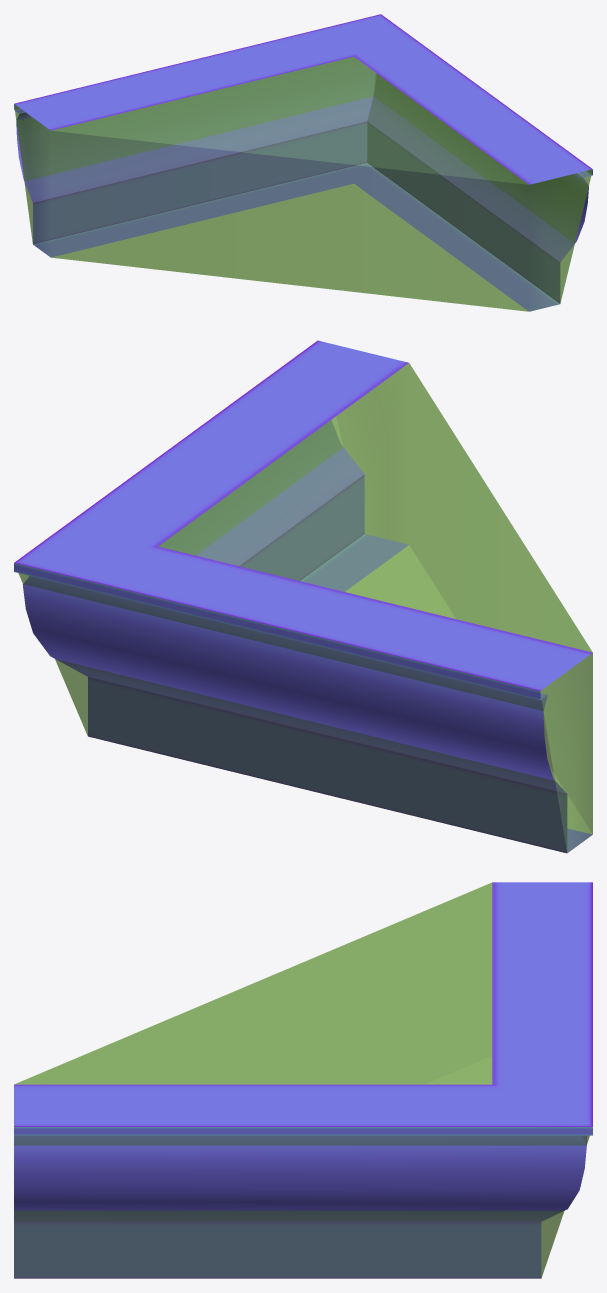
File: F_md_TrimH_90cnr_01.fbx
The picture shows the model from 3 angles, top to bottom: view 1: azimuth 30°, elevation 25°; view 2: azimuth 150°, elevation 25°; view 3: azimuth 270°, elevation 25°; orthographic projection. The views are drawn at different scales.
Visible parts, largest first — view 1: F_md_TrimH_90cnr_01_col_01, F_md_TrimH_90cnr_01_LOD0; view 2: F_md_TrimH_90cnr_01_LOD0, F_md_TrimH_90cnr_01_col_01; view 3: F_md_TrimH_90cnr_01_LOD0, F_md_TrimH_90cnr_01_col_01.
Boxes of the visible parts, x1,y1,x2,y2 form: F_md_TrimH_90cnr_01_col_01: (14,56,592,311); F_md_TrimH_90cnr_01_LOD0: (14,14,592,311); F_md_TrimH_90cnr_01_LOD0: (14,340,592,853); F_md_TrimH_90cnr_01_col_01: (18,363,592,853); F_md_TrimH_90cnr_01_LOD0: (14,882,592,1278); F_md_TrimH_90cnr_01_col_01: (14,882,589,1278).
Size of what is drawn, in the model's own units: 121 by 40 by 121.
